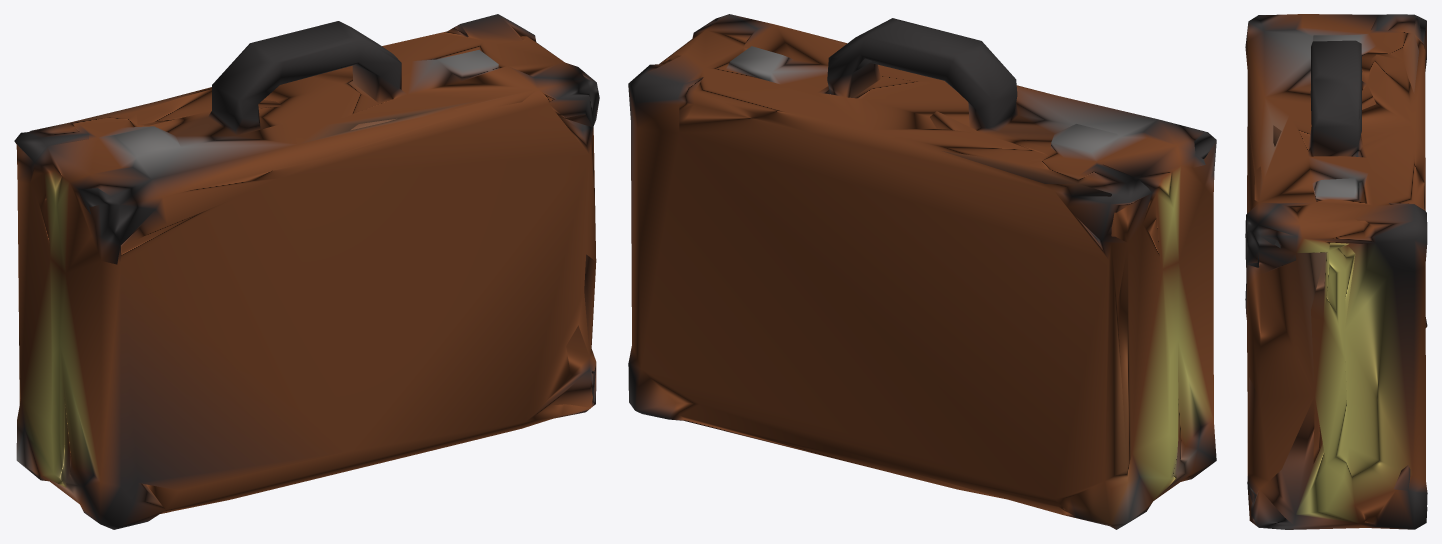
Rendered from gen3d-briefcase-lod1.glb.
The picture shows the model from 3 angles, left to right: view 1: azimuth 30°, elevation 25°; view 2: azimuth 150°, elevation 25°; view 3: azimuth 270°, elevation 25°; orthographic projection. The views are drawn at different scales.
Visible parts, largest first — view 1: part_0; view 2: part_0; view 3: part_0.
Boxes of the visible parts, x1,y1,x2,y2 form: part_0: (14,14,599,529); part_0: (628,14,1216,529); part_0: (1245,14,1427,529).
Bounding box in the file's own units: 1.3 × 1 × 0.4506.
